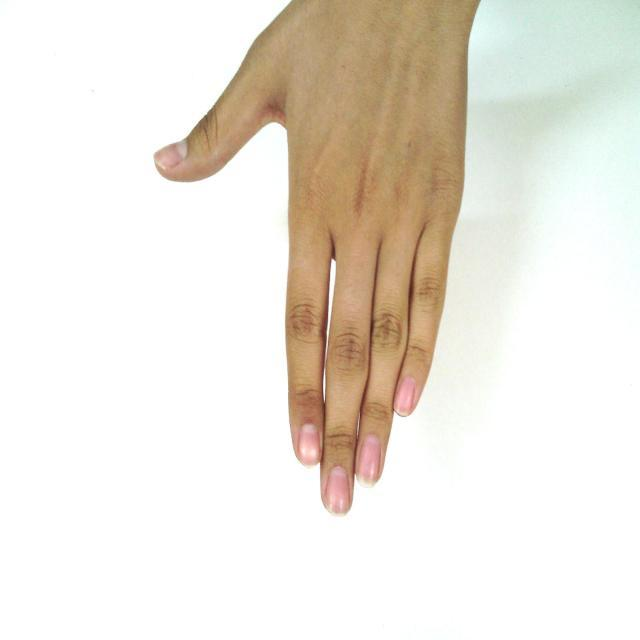Fingernail: (357, 435, 380, 487), (326, 466, 349, 516), (299, 423, 319, 465), (155, 143, 185, 168), (396, 377, 415, 415)
